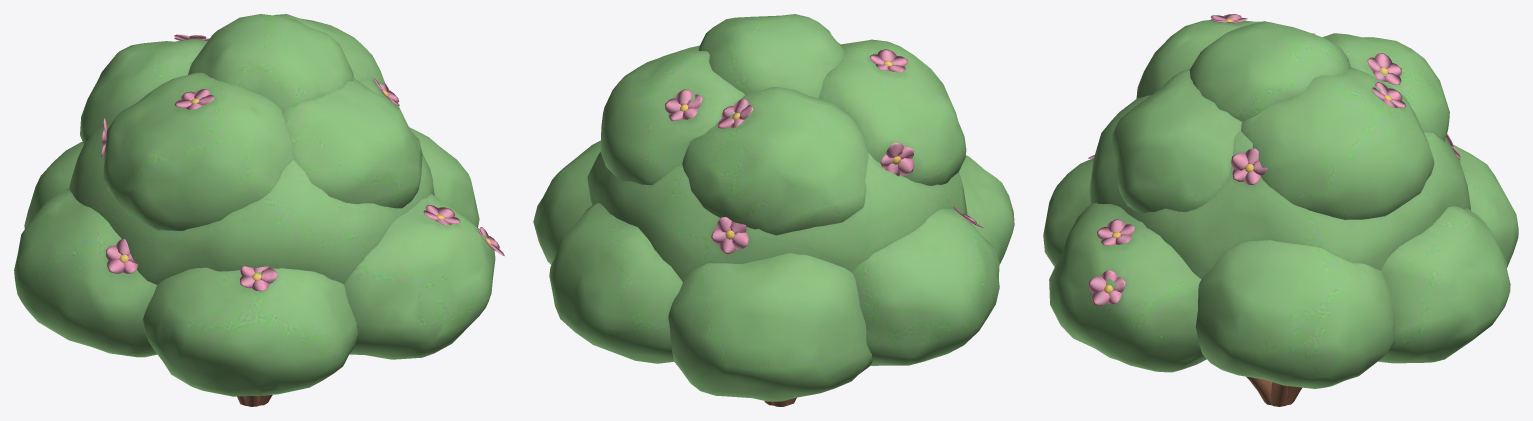
Rendered from arbusto.glb.
The picture shows the model from 3 angles, left to right: view 1: azimuth 30°, elevation 25°; view 2: azimuth 150°, elevation 25°; view 3: azimuth 270°, elevation 25°; orthographic projection.
Visible parts, largest first — view 1: bush_body; view 2: bush_body; view 3: bush_body.
Part boxes in pixels (x1,y1,x2,y2): bush_body: [14, 14, 504, 406]; bush_body: [533, 14, 1014, 406]; bush_body: [1043, 14, 1518, 406].
Bounding box in the file's own units: 1.33 × 1.09 × 1.26.
Materials: 1 (1 with a texture image).
